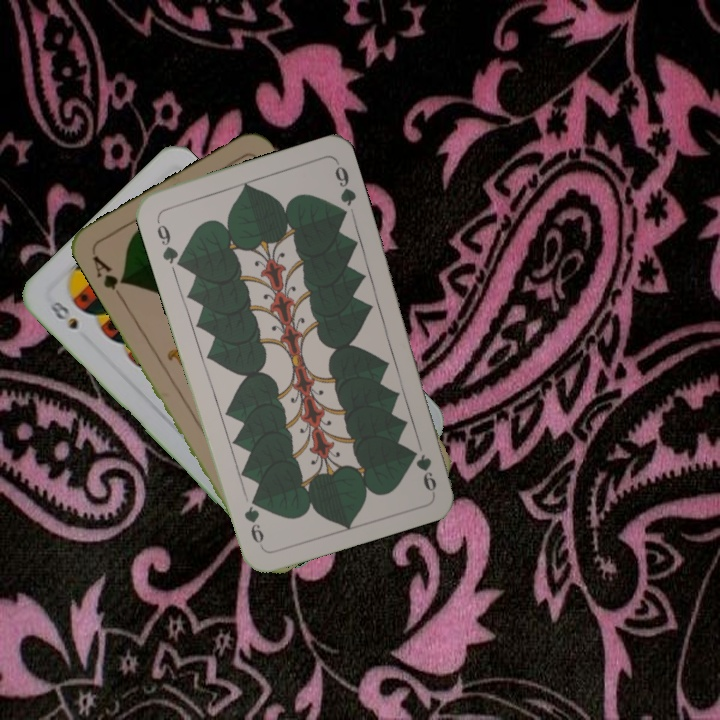G9: (152, 214, 185, 270), (413, 450, 439, 494)
GA: (88, 251, 129, 303)
S8: (45, 297, 81, 333)
